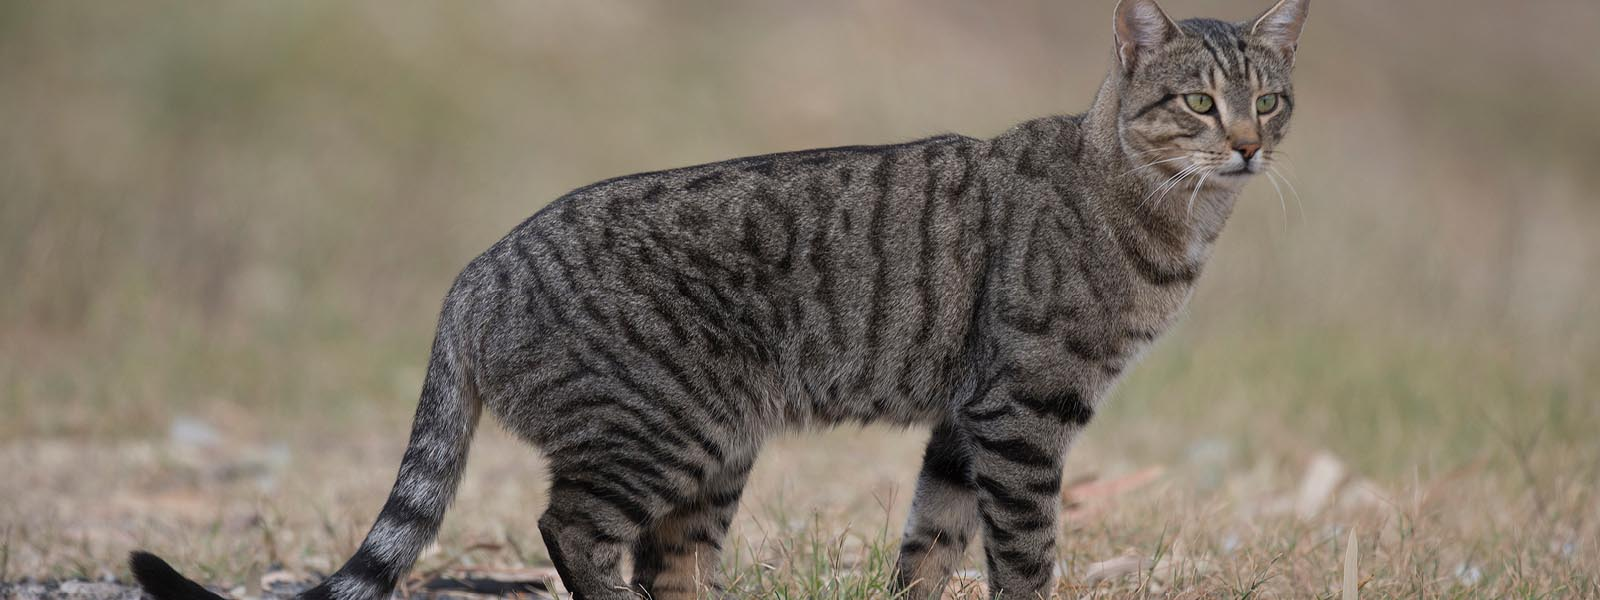Cat: (335, 1, 1320, 600)
